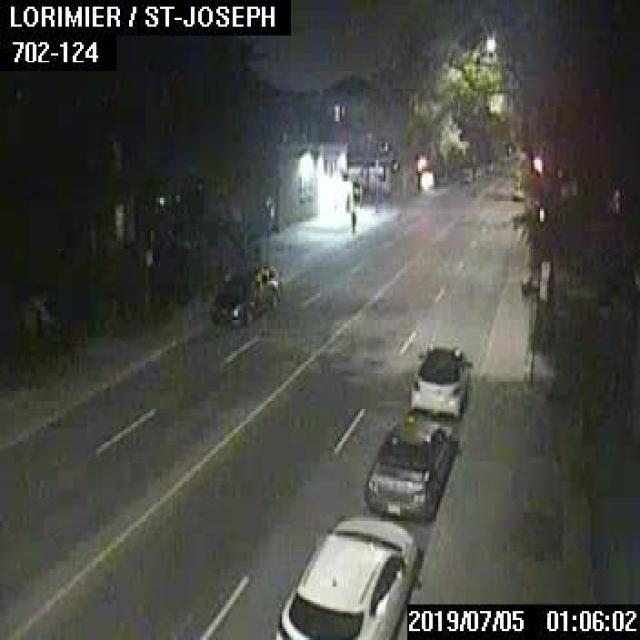pedestrian: (349, 209, 355, 233)
vehicle: (271, 516, 416, 638), (363, 413, 455, 522), (209, 262, 280, 325), (408, 344, 471, 414)
